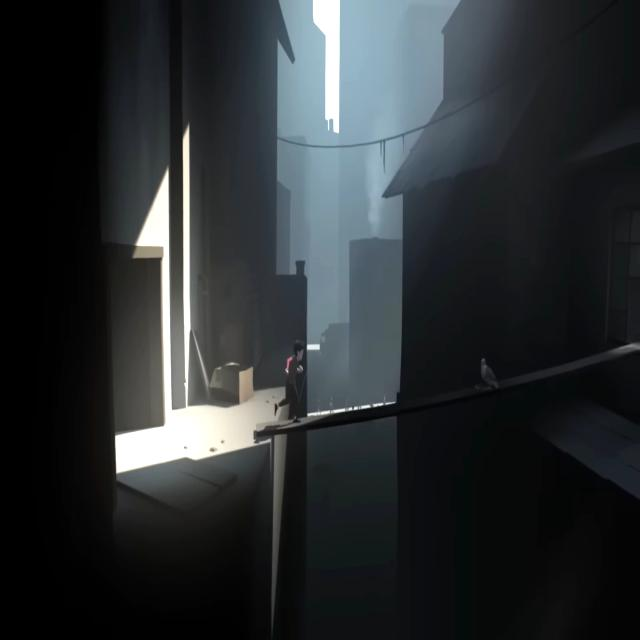boy: (274, 340, 304, 423)
